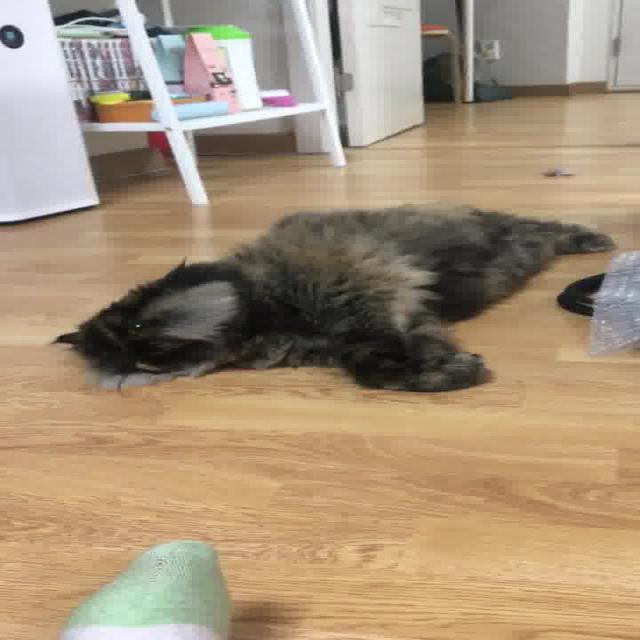cat: (42, 198, 628, 401)
